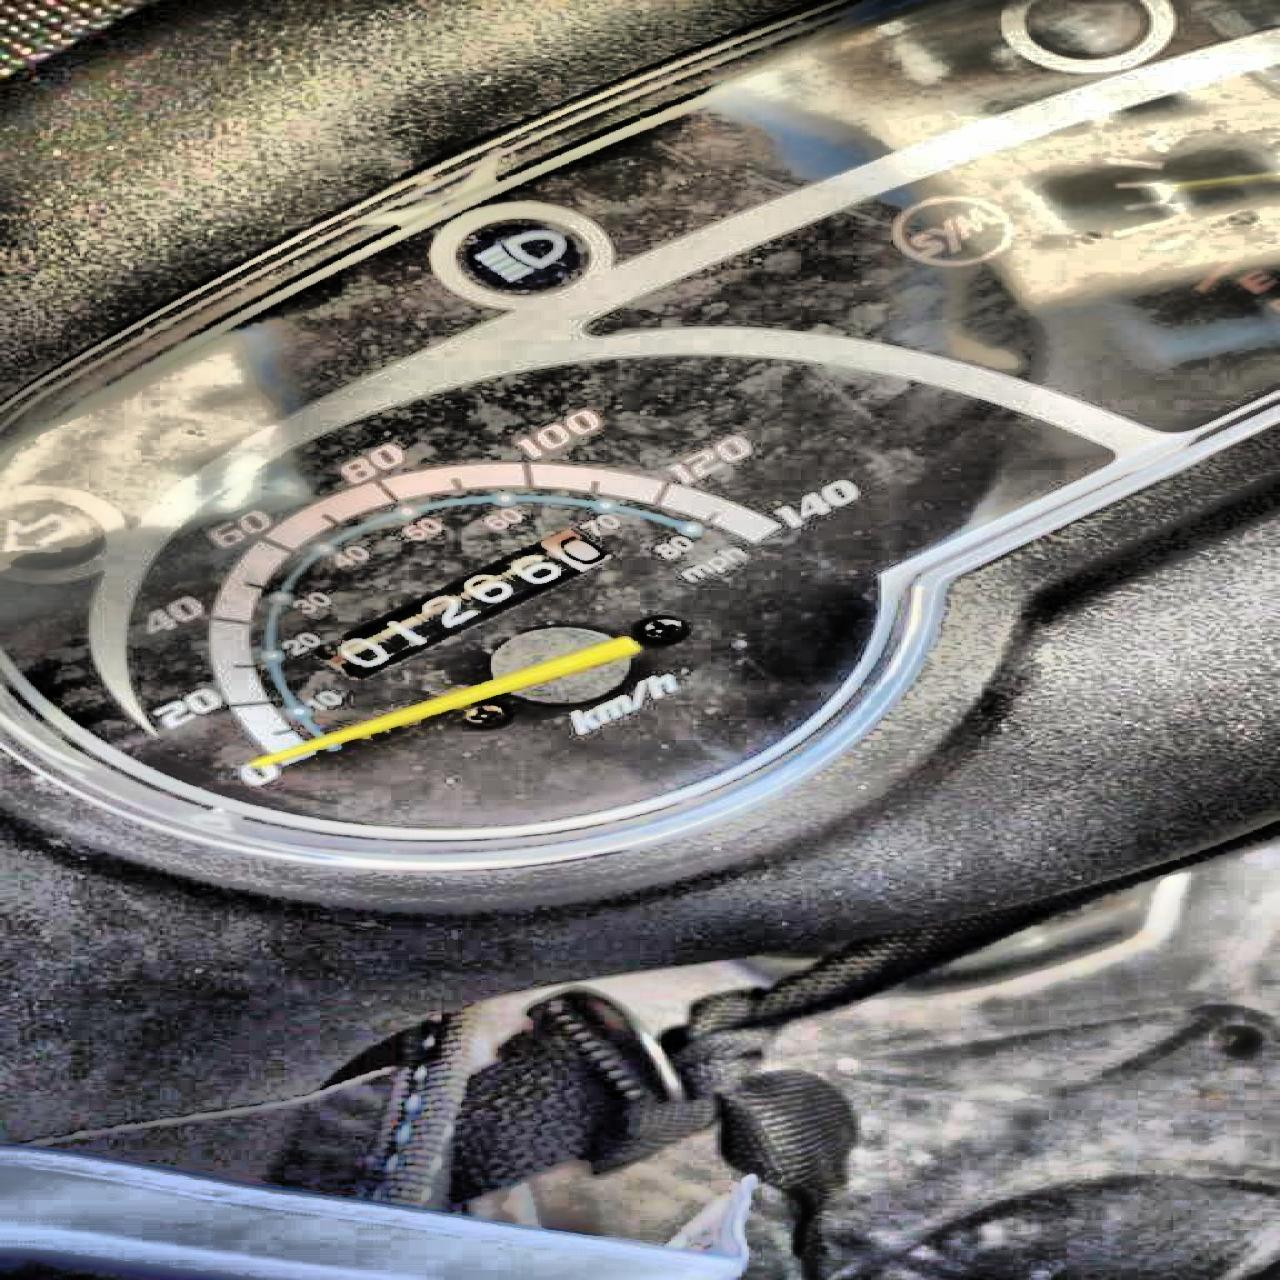0: (553, 535, 605, 565), (335, 636, 387, 666), (305, 591, 332, 605), (342, 544, 367, 558)
1: (382, 619, 427, 645)
2: (421, 595, 476, 626)
4: (331, 551, 353, 567)
5: (400, 524, 424, 540)
6: (459, 572, 513, 602), (509, 553, 560, 583)
7: (580, 520, 600, 535)
odometer: (312, 525, 615, 681)
